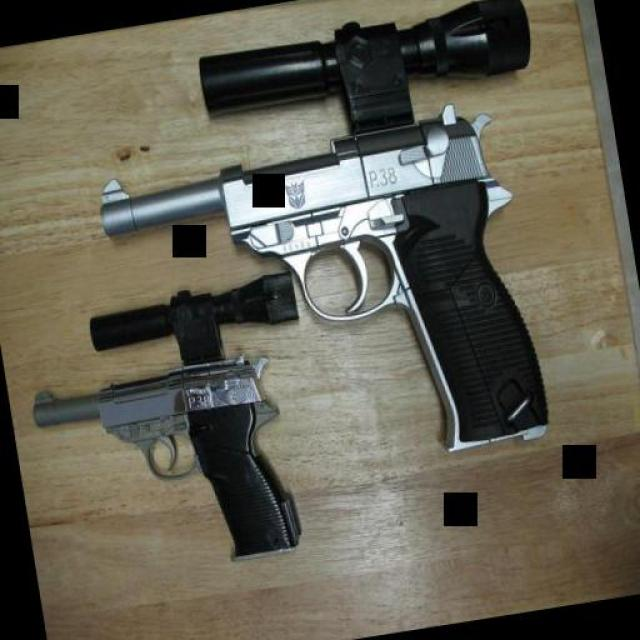gun: (71, 0, 596, 515), (9, 264, 340, 604)
